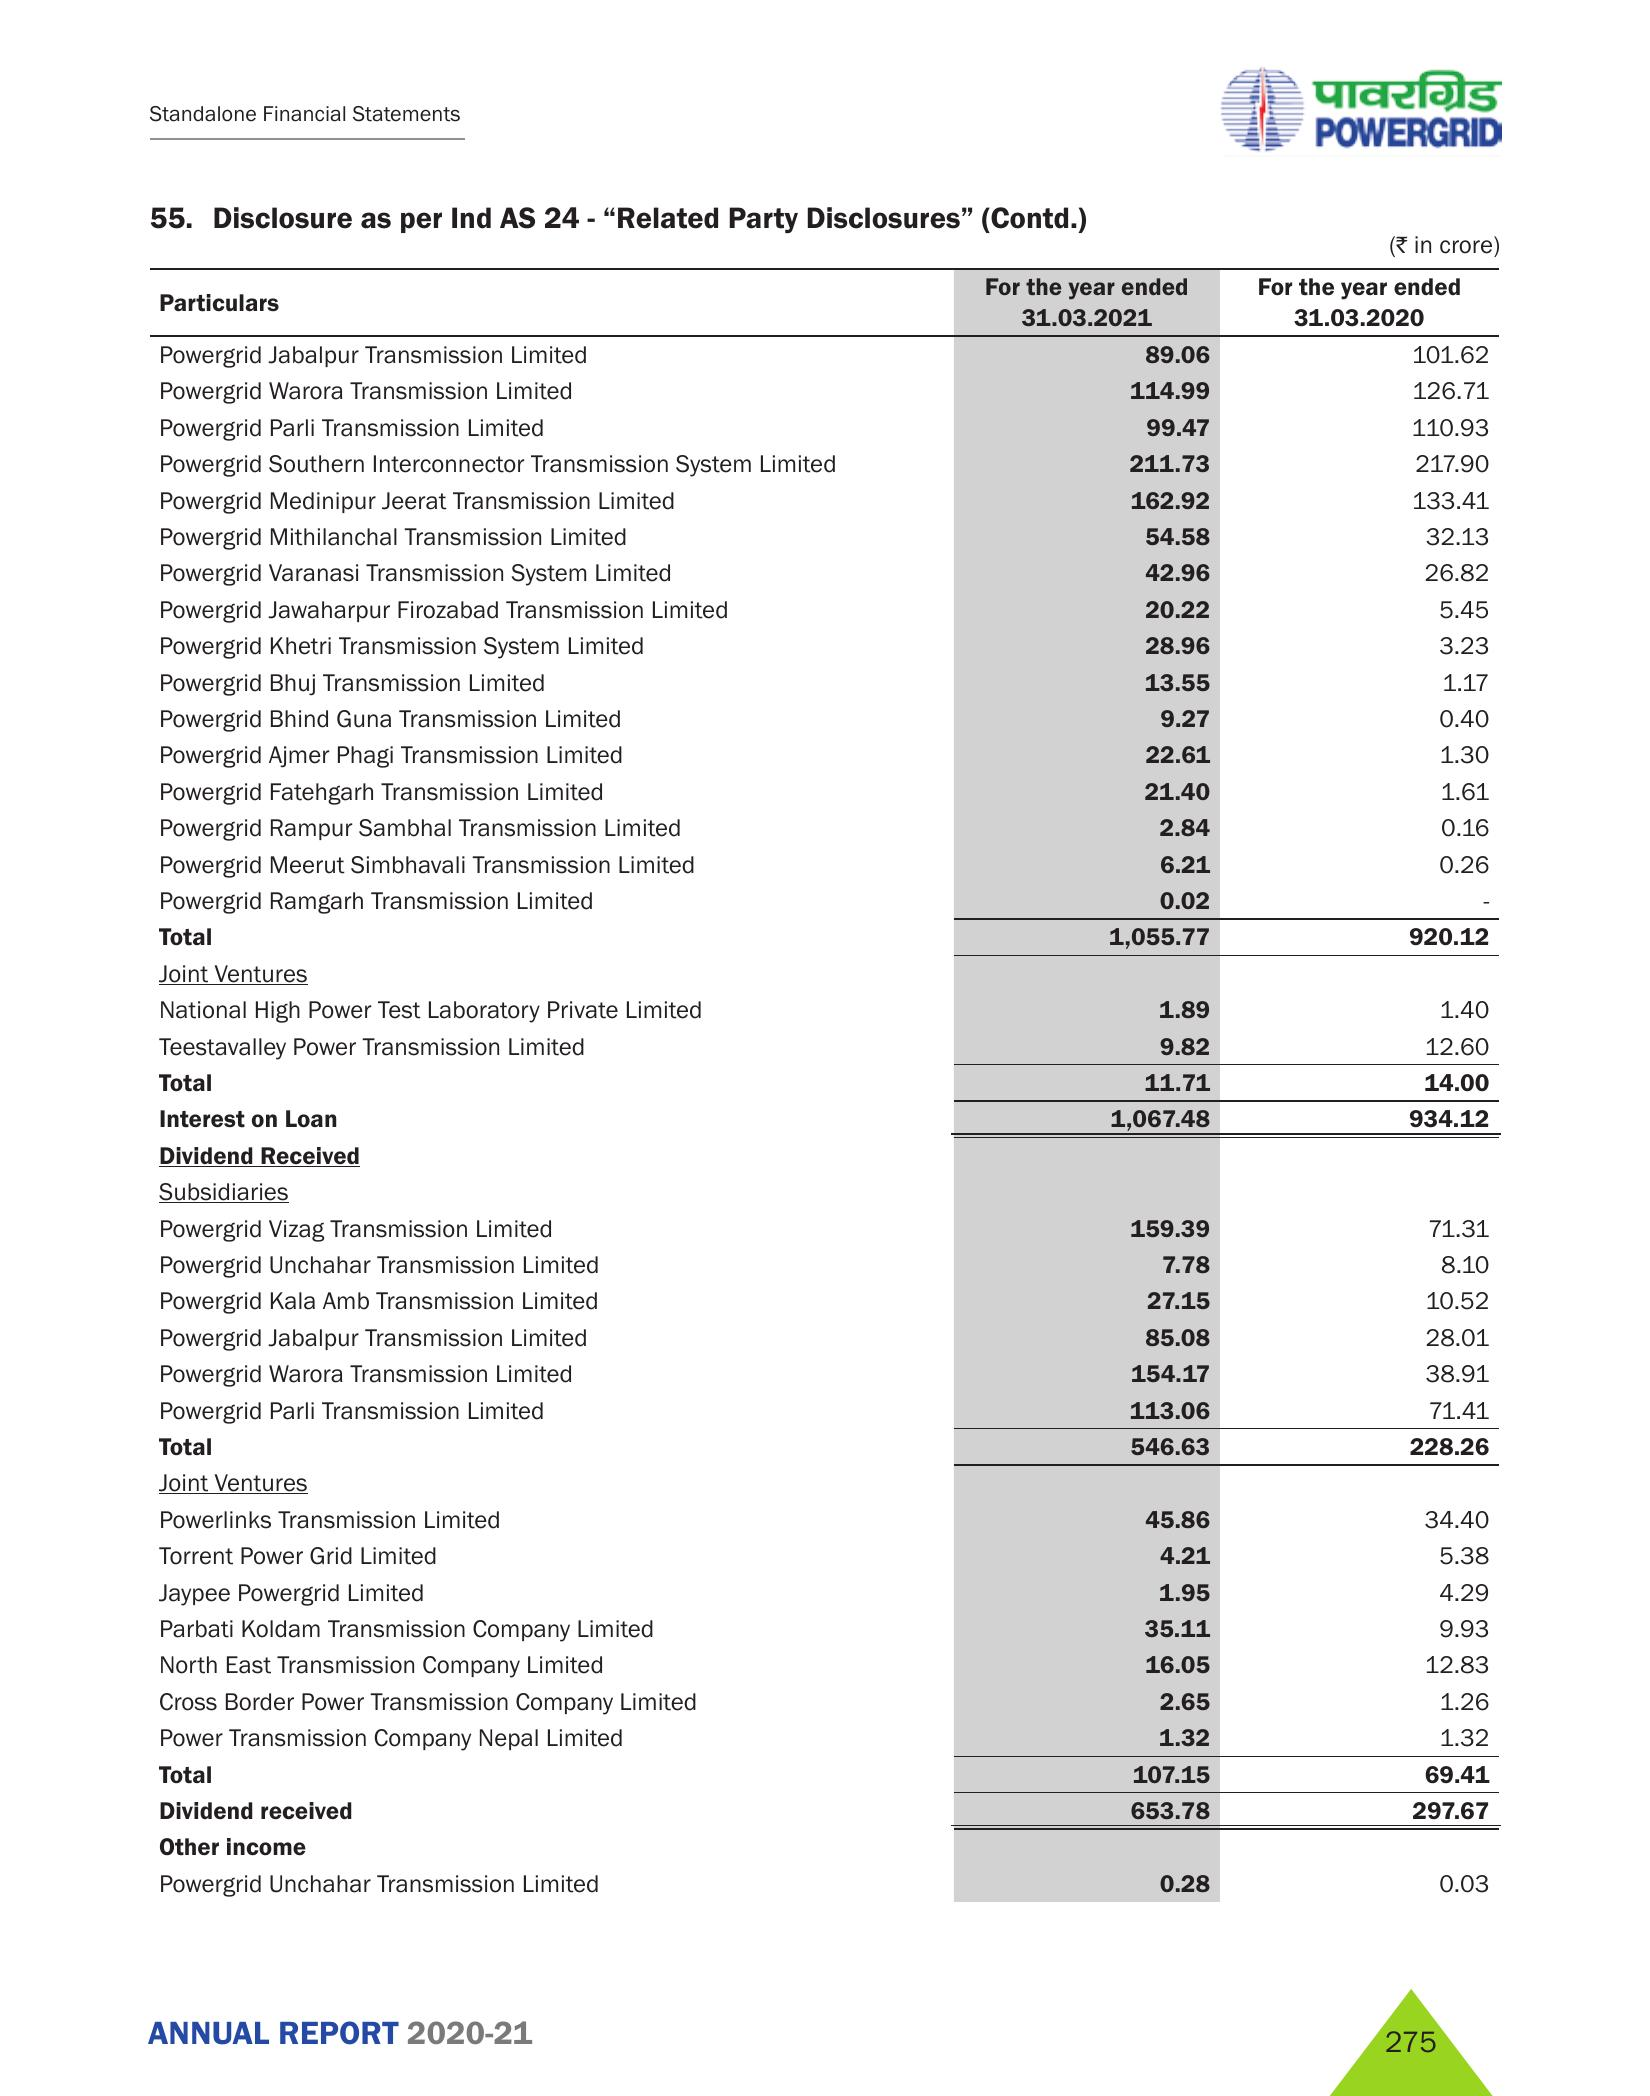Footer: (0, 1962, 1650, 2096)
Header: (0, 0, 1650, 168)
Table: (134, 265, 1528, 1907)
